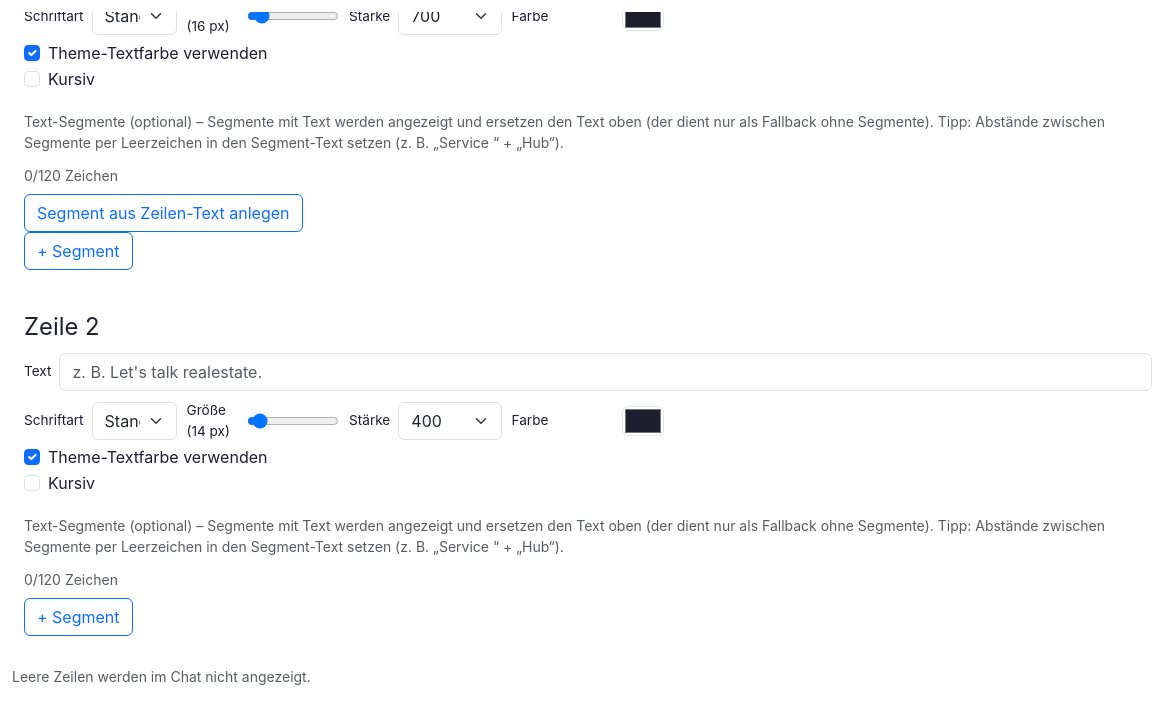
Test: CustomizeTab › edits a header line (text, italic) and previews it live
(page scrolled)
Type "Let's talk realestate." into the field with id "customize-header-line2-text".
click(606, 372); type("Let's talk realestate.")  # box 60,353 -> 1152,391
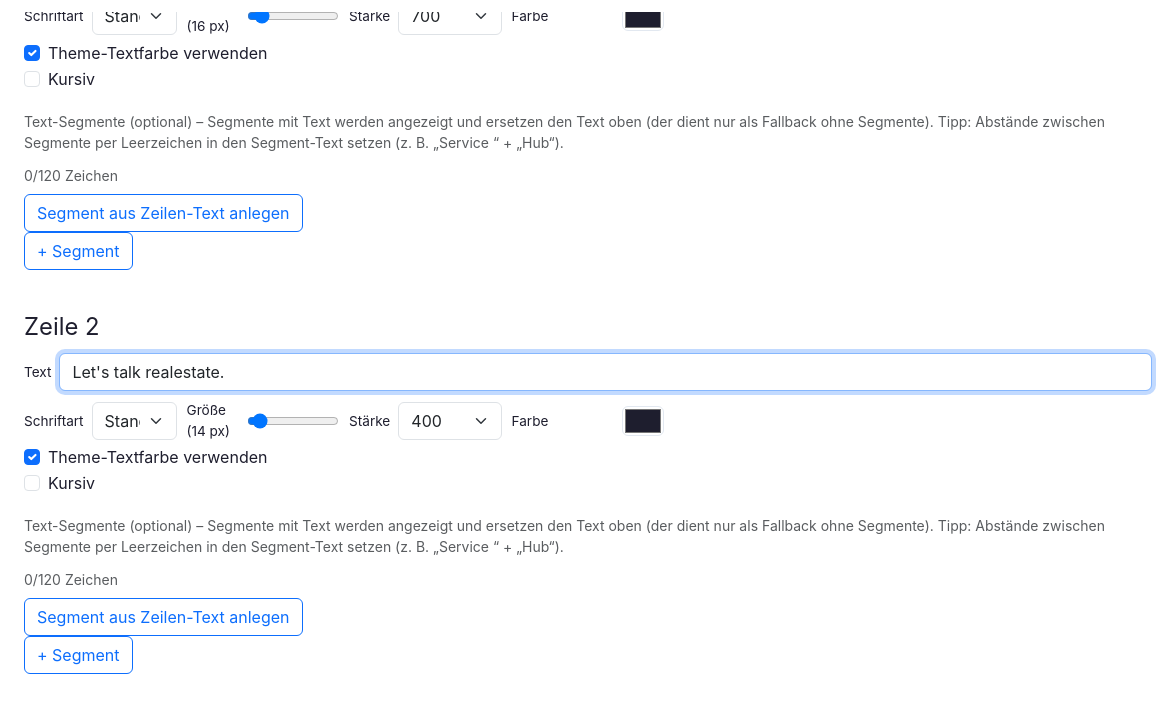
Click the checkbox with id "customize-header-line2-italic".
click(32, 483)  # box 24,475 -> 40,491
(page scrolled)
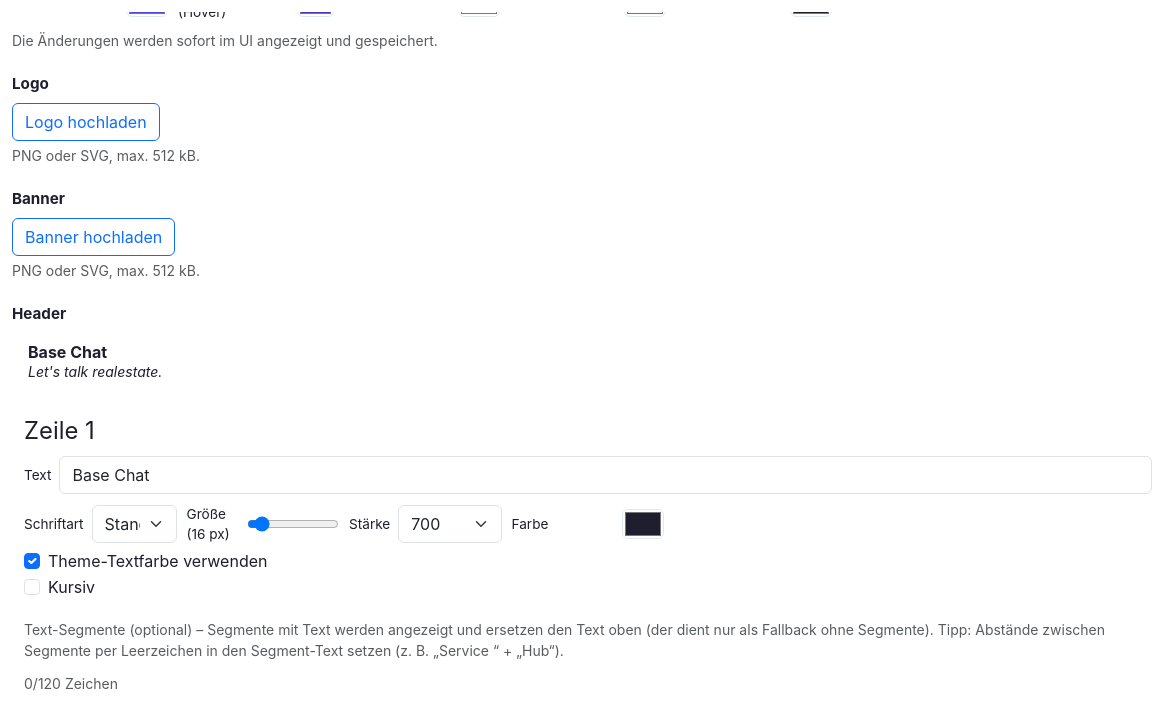
expect the element with class "chat-header-title--line2" reads "Let's talk realestate.": met, box 28,363 -> 162,380
